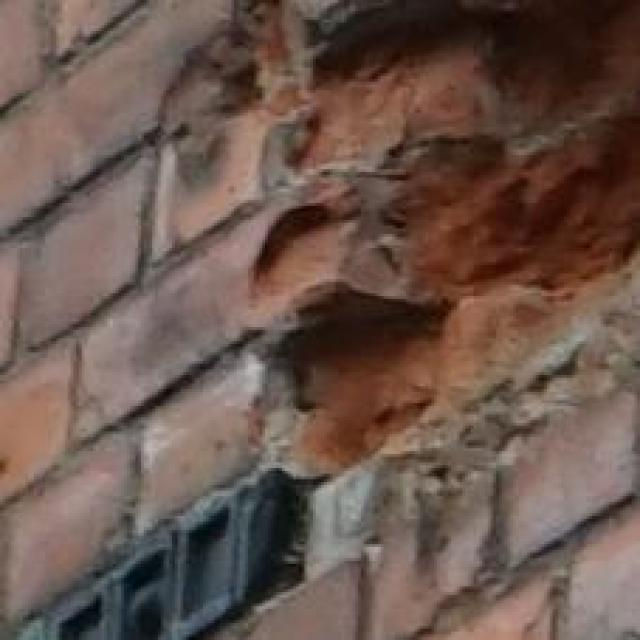Crack: (162, 0, 640, 531)
